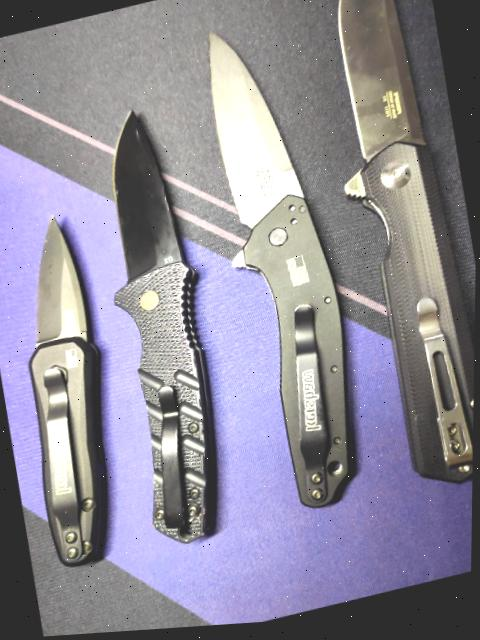pocket-knife: (183, 10, 381, 536), (294, 0, 480, 516), (76, 88, 250, 568), (0, 195, 137, 583)
